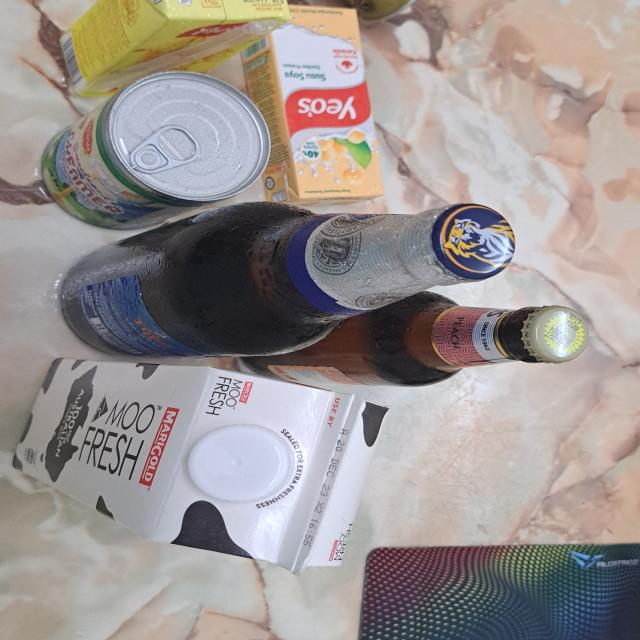can: (46, 70, 266, 222)
drink carton: (14, 349, 384, 574), (233, 0, 383, 203), (52, 0, 294, 89)
glass bottle: (69, 197, 509, 365), (249, 303, 591, 392)
plastic bottle cap: (178, 420, 302, 504)
pop tab: (123, 120, 203, 178)
